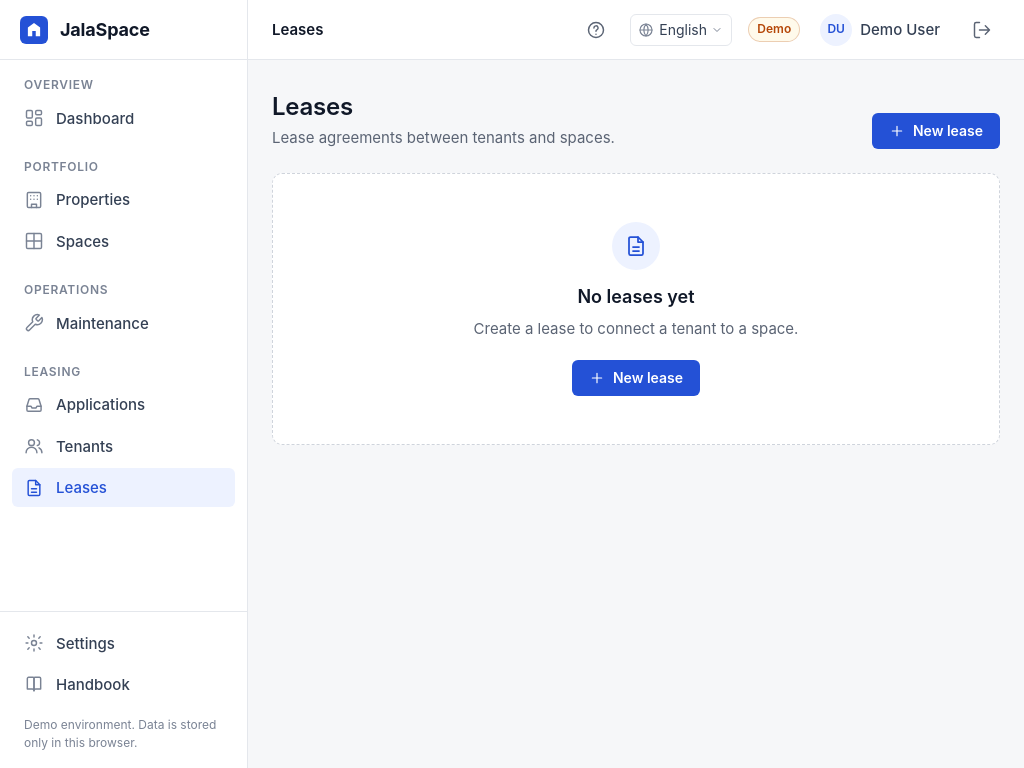
Test: language switcher › switches the app to Finnish without leaving the page
Expected: the heading "Leases" is shown, [272,92,353,121]
Select "Suomi" in the dropdown named "Language": {"x": 681, "y": 30} [630,14,732,46]
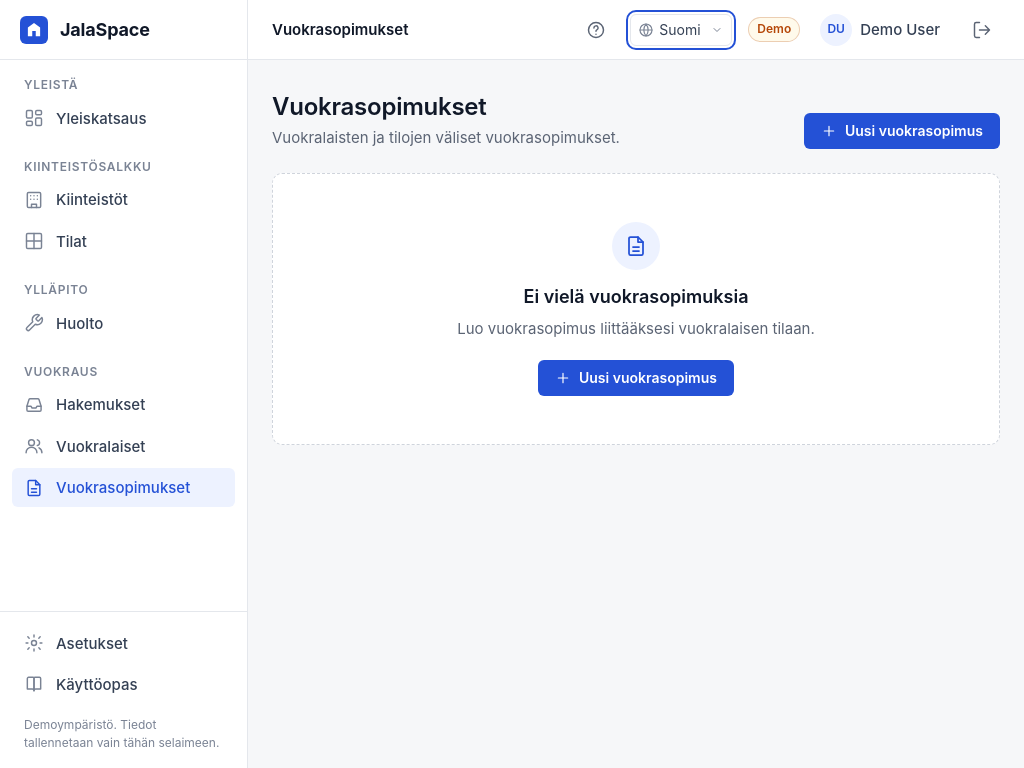
Expected: the button named "Kirjaudu ulos" is shown, [964,12,1000,48]
Expected: the heading "Vuokrasopimukset" is shown, [272,92,487,121]
Expected: the navigation bar named "Päävalikko" is shown, [0,60,247,610]
